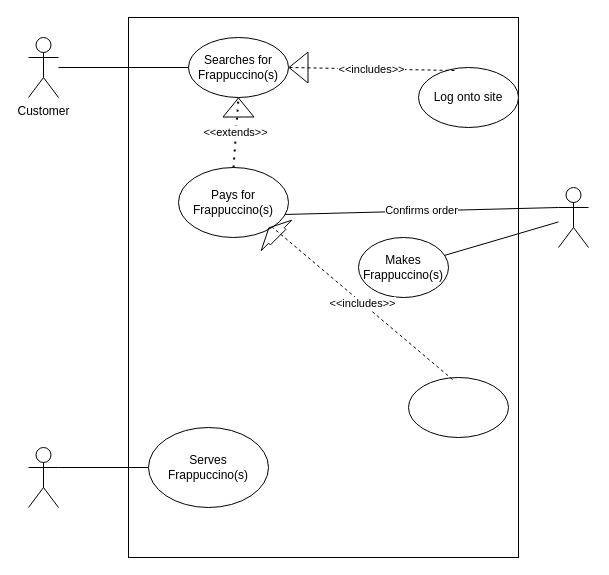
Some shapes in this 609 by 575 pixel diagram are drawn without their labels. The shapes that lost their labels are listed below. From the top down, each one's centre as x and y in pixels, then its label:
point (573, 217): Barista
point (458, 407): Remove items used from inventory
point (43, 477): Cashier
